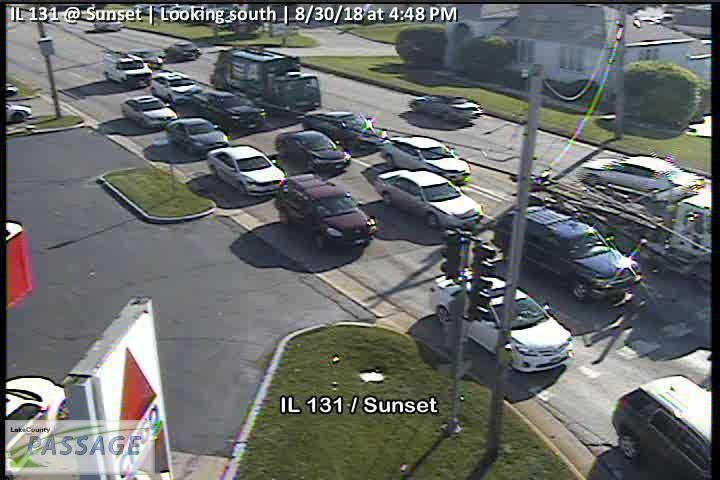SUV: (493, 205, 644, 303), (611, 373, 713, 480), (271, 171, 377, 250)
Sedan: (429, 260, 576, 372), (372, 167, 483, 229), (575, 154, 699, 196), (381, 135, 470, 187), (205, 143, 288, 197), (301, 105, 388, 154), (275, 127, 354, 178), (192, 85, 267, 131), (167, 115, 229, 157), (120, 95, 179, 131), (408, 94, 484, 121), (150, 69, 200, 105), (129, 46, 166, 69), (164, 40, 202, 61)
Truck: (211, 45, 322, 110), (103, 49, 151, 86)
